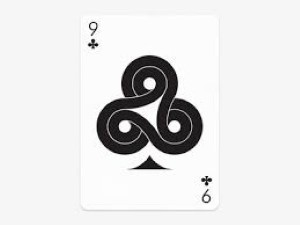NineOfClubs: (82, 17, 215, 206)
